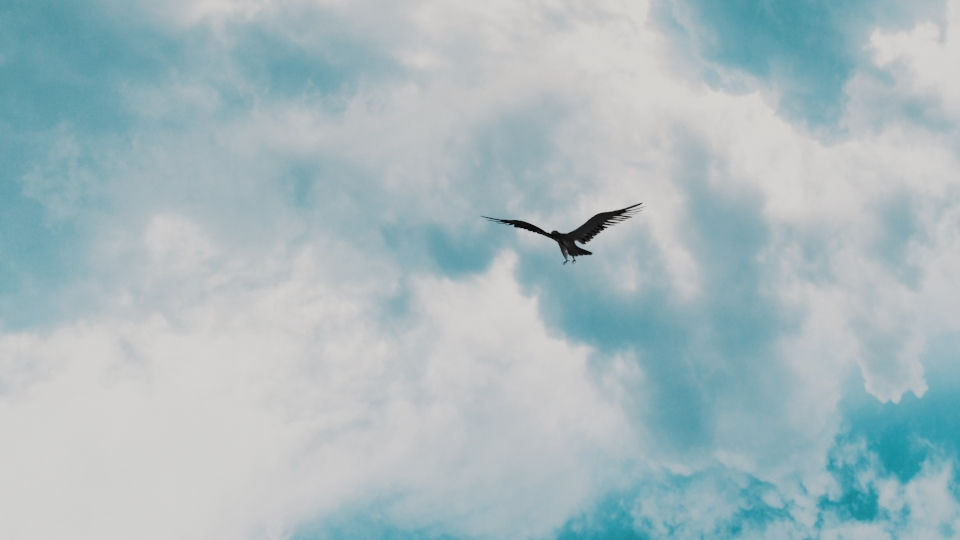bird: (482, 197, 639, 264)
